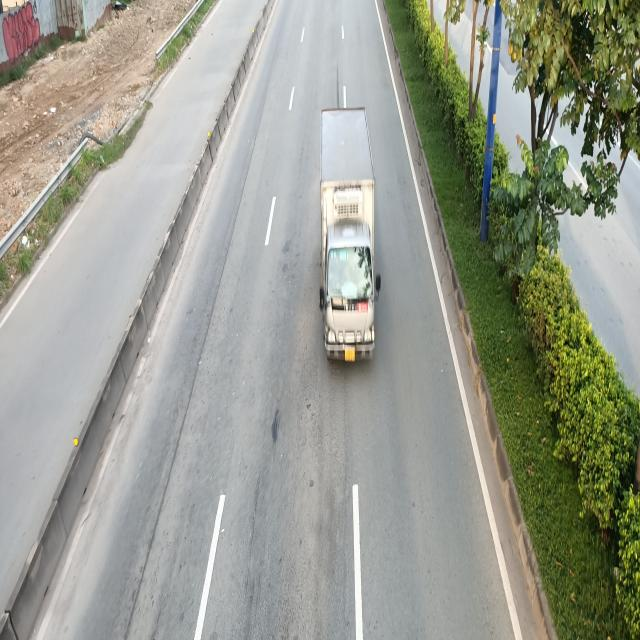truck: (321, 109, 382, 365)
